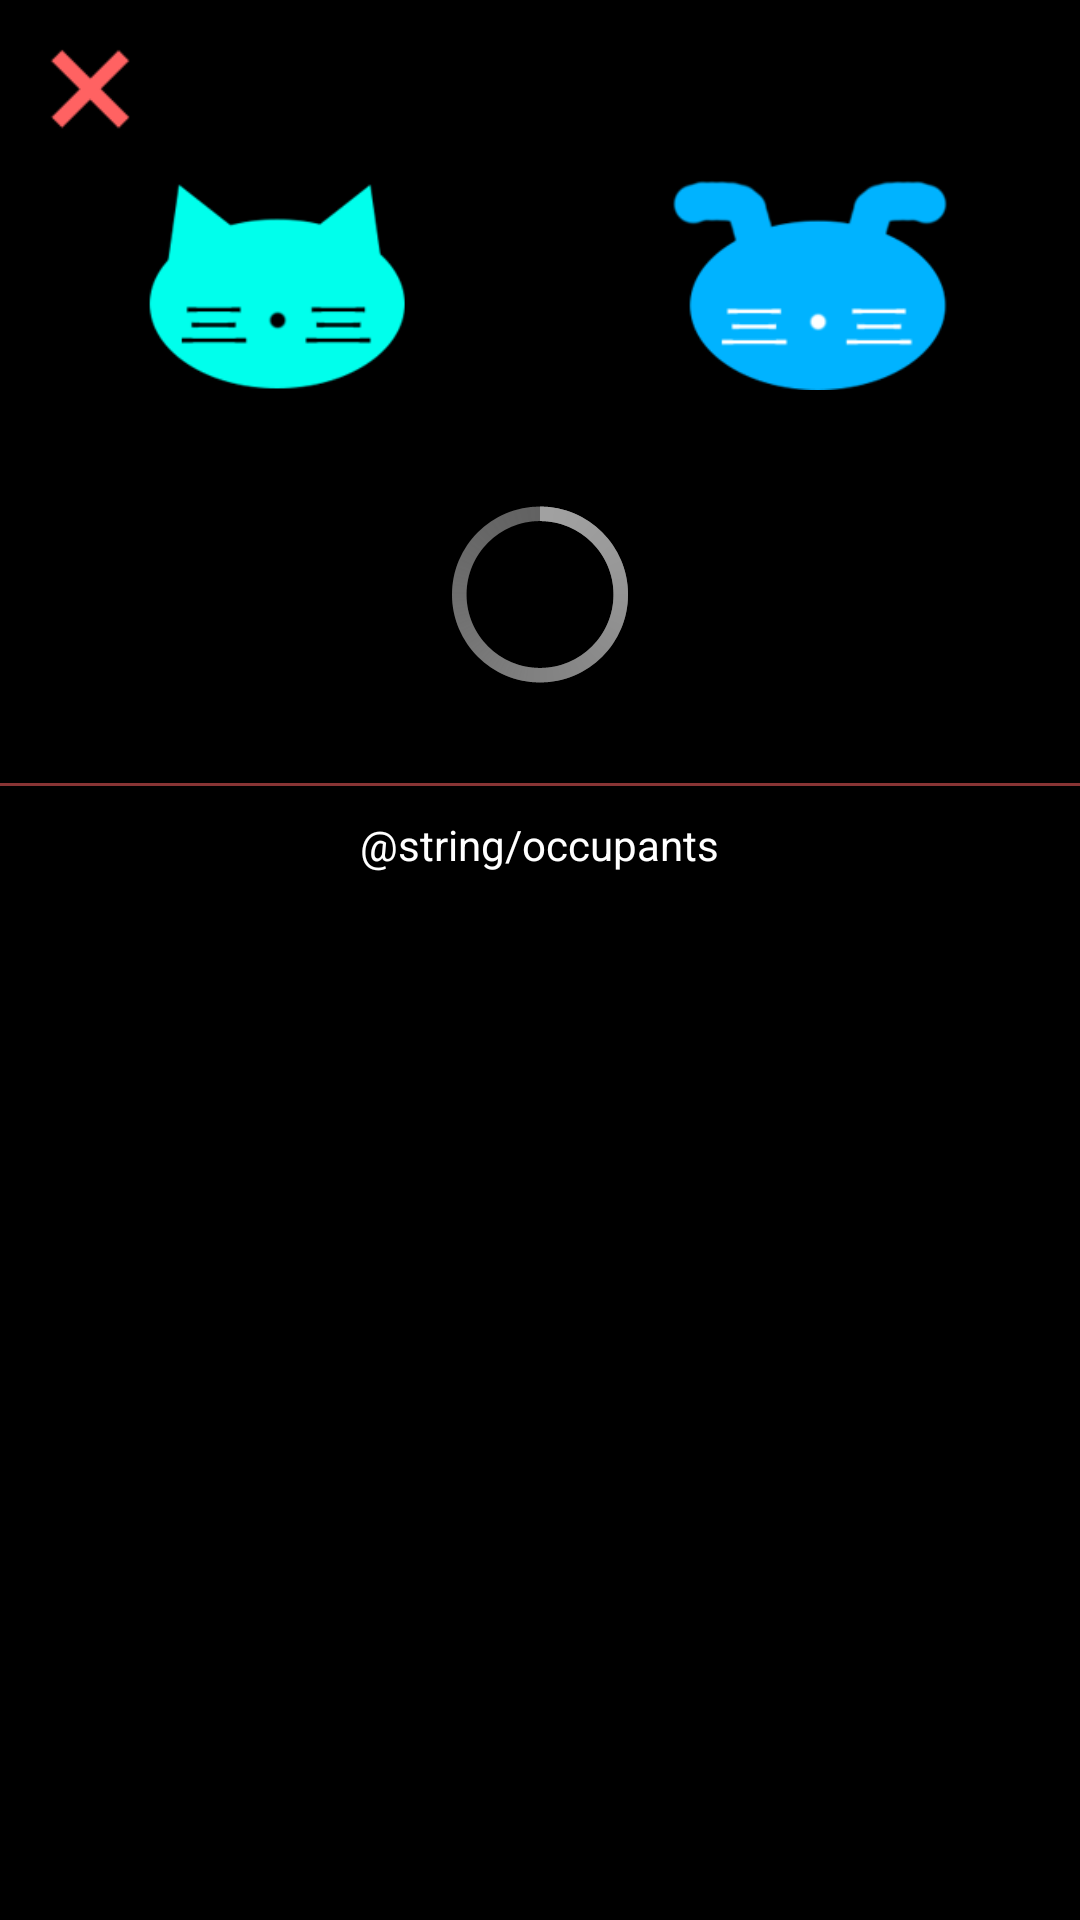

Where to tap for icons on this 1080*1920 app screen, as point (x, y):
cross: point (90, 89)
